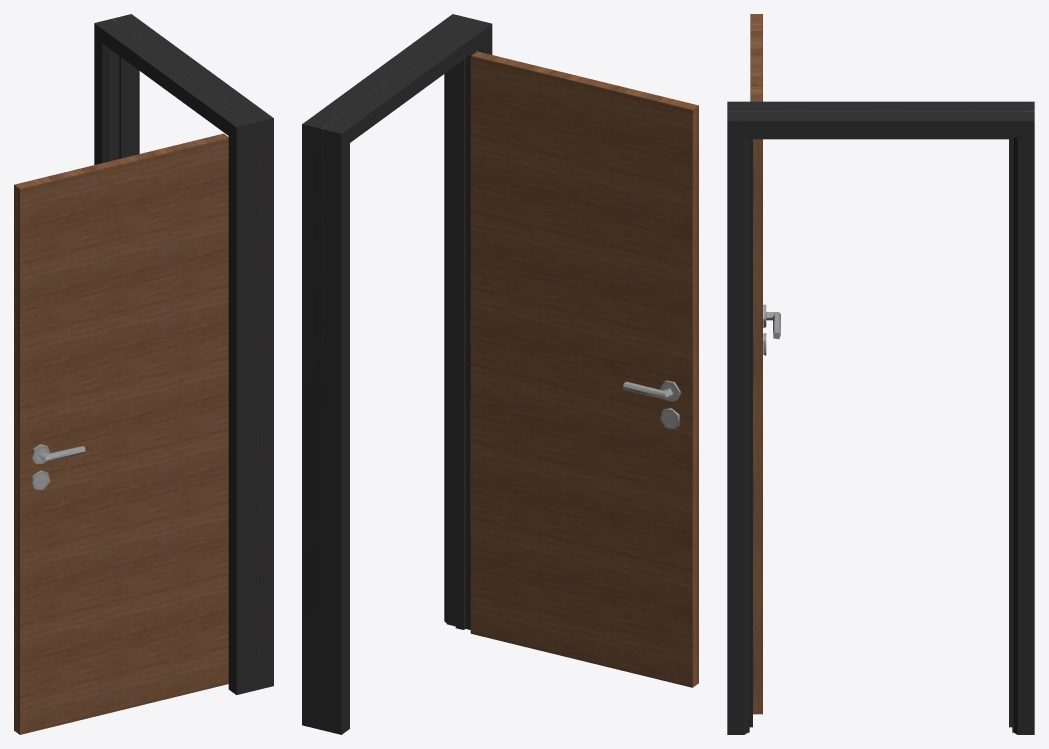
File: Door0013open.obj
3 views of the same model, side by side, from view 1: azimuth 30°, elevation 25°; view 2: azimuth 150°, elevation 25°; view 3: azimuth 270°, elevation 25° (orthographic). The views are drawn at different scales.
Bounding box in the file's own units: 0.951 × 2.12 × 0.964.
1 material, 1 textured.
